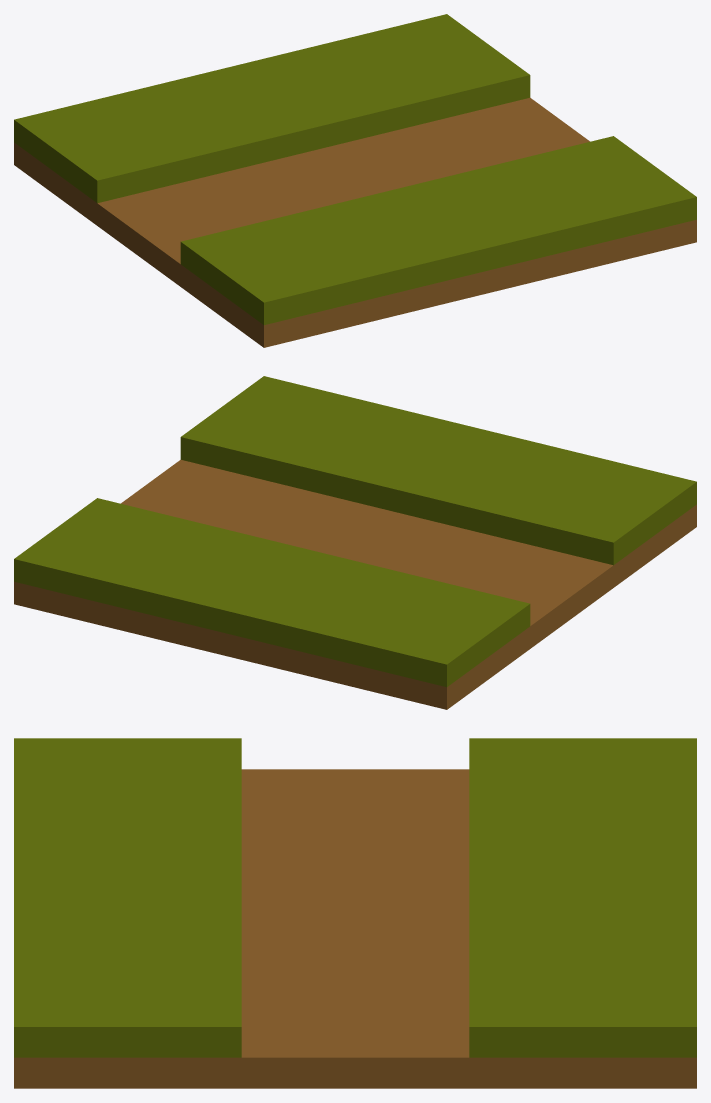
The model's file is ForestStraight.fbx.
The picture shows the model from 3 angles, top to bottom: view 1: azimuth 30°, elevation 25°; view 2: azimuth 150°, elevation 25°; view 3: azimuth 270°, elevation 25°; orthographic projection. The views are drawn at different scales.
Parts seen in each view (by area): view 1: ForestStraight; view 2: ForestStraight; view 3: ForestStraight.
Part boxes in pixels (x1=…): ForestStraight: x1=14, y1=14, x2=696, y2=347; ForestStraight: x1=14, y1=376, x2=696, y2=709; ForestStraight: x1=14, y1=738, x2=696, y2=1088.
Size of the model in its own units: 100 by 10 by 100.
